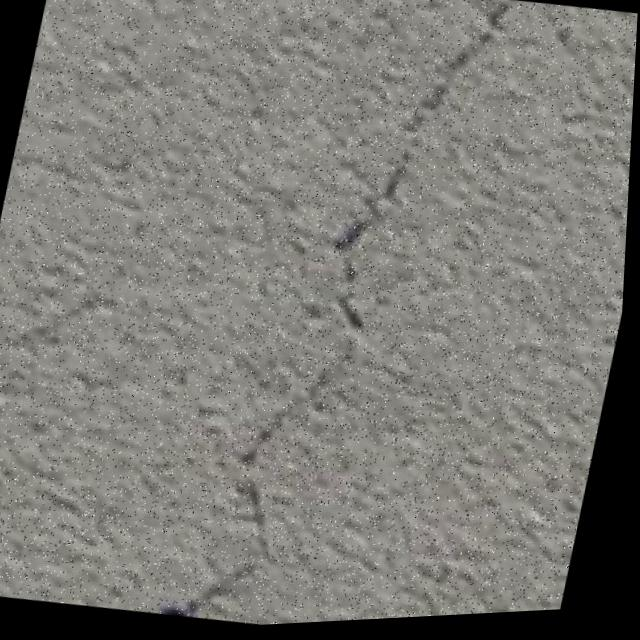Crack: (157, 0, 524, 633)
